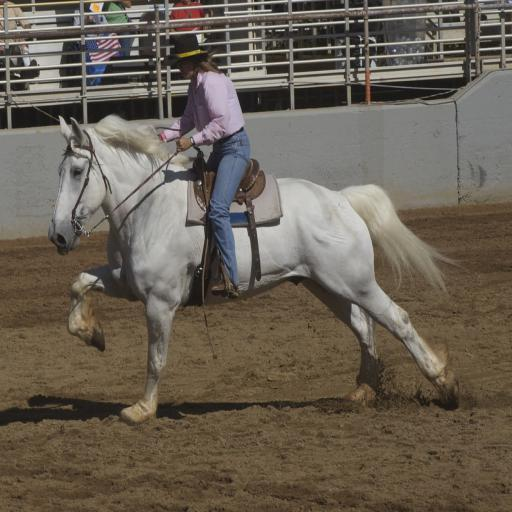horse: (46, 112, 466, 424)
